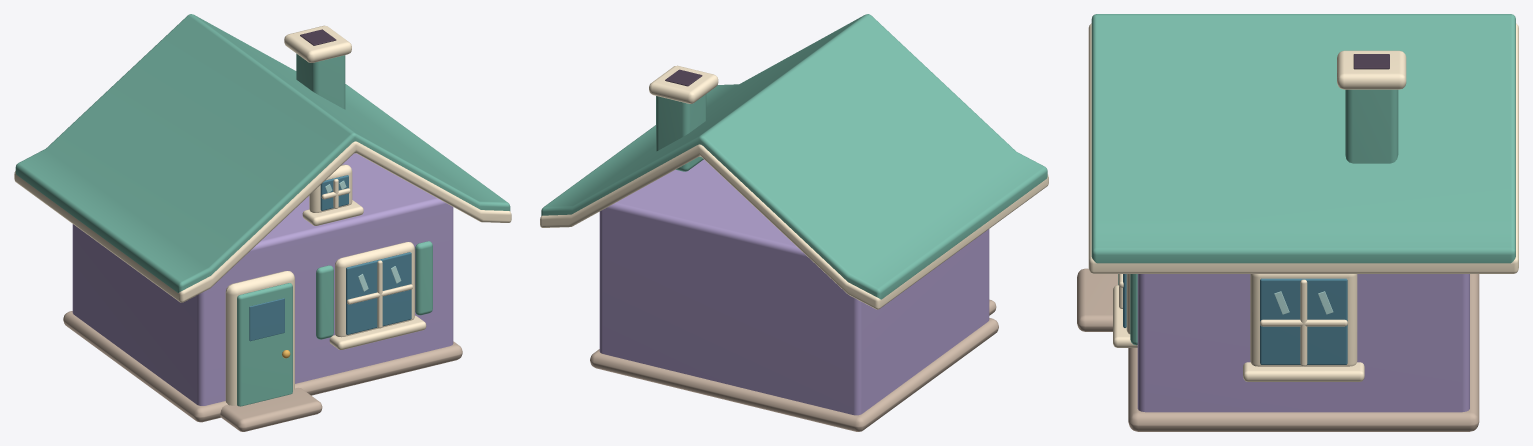
Rendered from Neighborhood_cottage_2.fbx.
3 renders of one model, left to right at view 1: azimuth 30°, elevation 25°; view 2: azimuth 150°, elevation 25°; view 3: azimuth 270°, elevation 25°, orthographic. The views are drawn at different scales.
Parts seen in each view (by area): view 1: Toon_Neighborhood_cottage_2 Roof.001, Toon_Neighborhood_cottage_2 Soft plaster shell.001, Toon_Neighborhood_cottage_2 Vanilla roof edge.001, Toon_Neighborhood_cottage_2 Foundation.001, Toon_Neighborhood_cottage_2 Mint door.001, Toon_Neighborhood_cottage_2 Blue pane.003, Toon_Neighborhood_cottage_2 Doorstep.001, Toon_Neighborhood_cottage_2 Door surround.001, Toon_Neighborhood_cottage_2 Window surround.003, Toon_Neighborhood_cottage_2 Chimney.001, Toon_Neighborhood_cottage_2 Chimney cap.001, Toon_Neighborhood_cottage_2 Shutter.003 (+6 smaller); view 2: Toon_Neighborhood_cottage_2 Roof.001, Toon_Neighborhood_cottage_2 Soft plaster shell.001, Toon_Neighborhood_cottage_2 Foundation.001, Toon_Neighborhood_cottage_2 Vanilla roof edge.001, Toon_Neighborhood_cottage_2 Chimney.001, Toon_Neighborhood_cottage_2 Chimney cap.001; view 3: Toon_Neighborhood_cottage_2 Roof.001, Toon_Neighborhood_cottage_2 Soft plaster shell.001, Toon_Neighborhood_cottage_2 Foundation.001, Toon_Neighborhood_cottage_2 Vanilla roof edge.001, Toon_Neighborhood_cottage_2 Blue pane.004, Toon_Neighborhood_cottage_2 Chimney.001, Toon_Neighborhood_cottage_2 Window surround.004, Toon_Neighborhood_cottage_2 Doorstep.001, Toon_Neighborhood_cottage_2 Chimney cap.001, Toon_Neighborhood_cottage_2 Deep sill.004, Toon_Neighborhood_cottage_2 Deep sill.003, Toon_Neighborhood_cottage_2 Crossbar.004 (+3 smaller).
Boxes of the visible parts, x1,y1,x2,y2 form: Toon_Neighborhood_cottage_2 Roof.001: [15, 14, 510, 292]; Toon_Neighborhood_cottage_2 Soft plaster shell.001: [72, 153, 453, 405]; Toon_Neighborhood_cottage_2 Vanilla roof edge.001: [14, 141, 511, 302]; Toon_Neighborhood_cottage_2 Foundation.001: [63, 311, 462, 422]; Toon_Neighborhood_cottage_2 Mint door.001: [237, 283, 292, 406]; Toon_Neighborhood_cottage_2 Blue pane.003: [346, 252, 411, 334]; Toon_Neighborhood_cottage_2 Doorstep.001: [220, 387, 322, 431]; Toon_Neighborhood_cottage_2 Door surround.001: [225, 271, 294, 405]; Toon_Neighborhood_cottage_2 Window surround.003: [335, 242, 414, 337]; Toon_Neighborhood_cottage_2 Chimney.001: [296, 53, 345, 109]; Toon_Neighborhood_cottage_2 Chimney cap.001: [284, 25, 351, 62]; Toon_Neighborhood_cottage_2 Shutter.003: [415, 241, 432, 315]; Toon_Neighborhood_cottage_2 Roof.001: [541, 14, 1047, 299]; Toon_Neighborhood_cottage_2 Soft plaster shell.001: [599, 159, 989, 415]; Toon_Neighborhood_cottage_2 Foundation.001: [590, 318, 998, 431]; Toon_Neighborhood_cottage_2 Vanilla roof edge.001: [540, 144, 1048, 309]; Toon_Neighborhood_cottage_2 Chimney.001: [656, 94, 706, 171]; Toon_Neighborhood_cottage_2 Chimney cap.001: [649, 65, 718, 103]; Toon_Neighborhood_cottage_2 Roof.001: [1091, 14, 1515, 263]; Toon_Neighborhood_cottage_2 Soft plaster shell.001: [1137, 274, 1469, 412]; Toon_Neighborhood_cottage_2 Foundation.001: [1128, 274, 1479, 431]; Toon_Neighborhood_cottage_2 Vanilla roof edge.001: [1088, 23, 1518, 273]; Toon_Neighborhood_cottage_2 Blue pane.004: [1260, 278, 1347, 364]; Toon_Neighborhood_cottage_2 Chimney.001: [1345, 89, 1398, 163]; Toon_Neighborhood_cottage_2 Window surround.004: [1250, 274, 1357, 366]; Toon_Neighborhood_cottage_2 Doorstep.001: [1077, 268, 1118, 331]; Toon_Neighborhood_cottage_2 Chimney cap.001: [1337, 50, 1406, 89]; Toon_Neighborhood_cottage_2 Deep sill.004: [1243, 362, 1364, 381]; Toon_Neighborhood_cottage_2 Deep sill.003: [1113, 285, 1137, 347]; Toon_Neighborhood_cottage_2 Crossbar.004: [1260, 319, 1347, 326].
Size of the model in its own units: 650 by 501 by 586.
